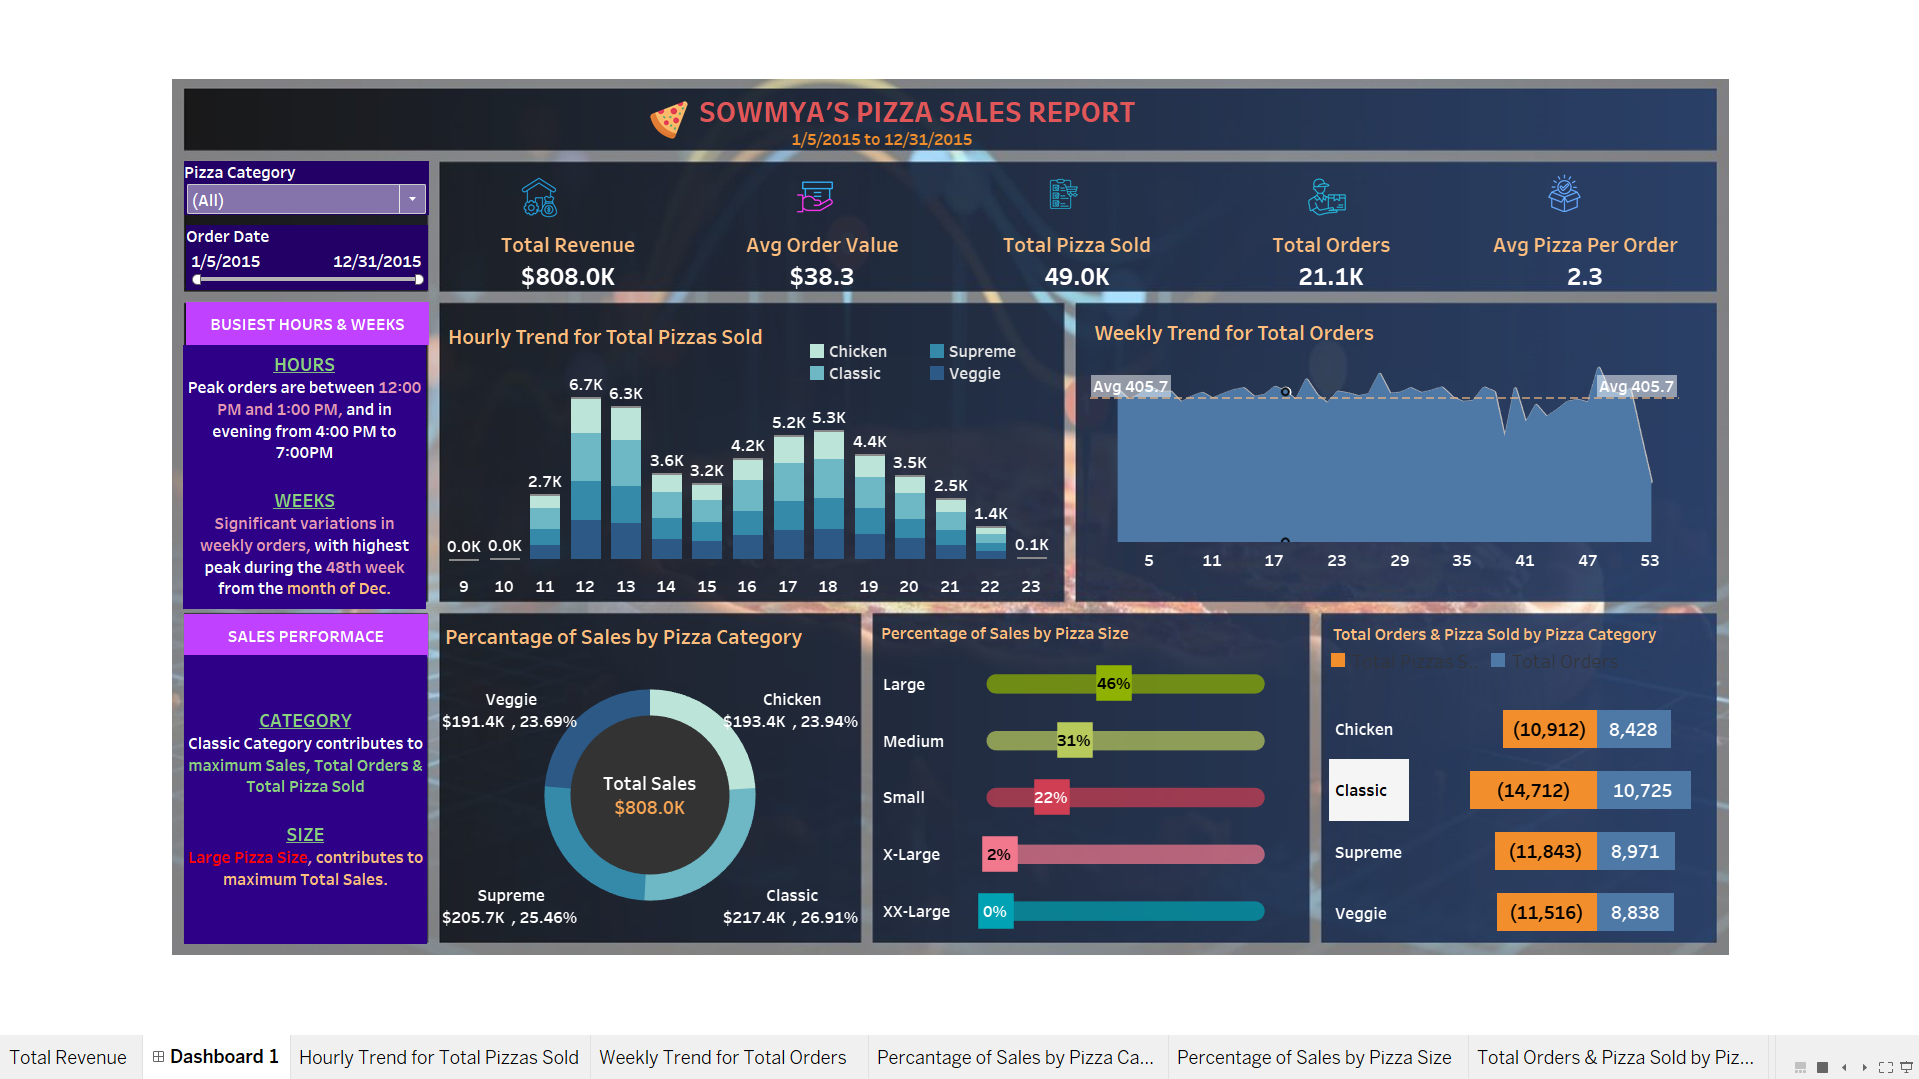

The page's visual inventory and layout, read from the dashboard file:
{"tool":"tableau","page":{"name":"Dashboard 1","canvas":[1600,900],"ordinal":0},"visuals":[{"type":"image","param":"C:/Users/Sowmya/Desktop/sql tableuau/Tableau & SQL Project/Pizza Tableau 1.jpg","box":[8,8,1584,884]},{"type":"text","box":[535,24,445,39]},{"type":"image","param":"C:/Users/Sowmya/Desktop/sql tableuau/Tableau & SQL Project/Pizza Sales Images/pi","box":[489,33,47,39]},{"type":"worksheet","title":"Date","mark":"Automatic","box":[420,63,603,18]},{"type":"filter","title":"Hourly Trend for Total Pizzas Sold","param":"[federated.1b7bx9z1to50l117srk150ibjvec].[none:pizza_category:nk]","box":[24,94,245,54]},{"type":"image","param":"C:/Users/Sowmya/Desktop/sql tableuau/Tableau & SQL Project/Pizza Sales Images/or","box":[1385,107,53,38]},{"type":"image","param":"C:/Users/Sowmya/Desktop/sql tableuau/Tableau & SQL Project/Pizza Sales Images/as","box":[358,109,55,42]},{"type":"image","param":"C:/Users/Sowmya/Desktop/sql tableuau/Tableau & SQL Project/Pizza Sales Images/sh","box":[634,109,51,41]},{"type":"image","param":"C:/Users/Sowmya/Desktop/sql tableuau/Tableau & SQL Project/Pizza Sales Images/de","box":[1147,110,44,39]},{"type":"image","param":"C:/Users/Sowmya/Desktop/sql tableuau/Tableau & SQL Project/Pizza Sales Images/or","box":[888,111,31,44]},{"type":"worksheet","title":"Total Revenue","mark":"Automatic","box":[281,151,1272,73]},{"type":"filter","title":"Hourly Trend for Total Pizzas Sold","param":"[federated.1b7bx9z1to50l117srk150ibjvec].[none:order_date:qk]","box":[26,158,242,65]},{"type":"text","box":[26,235,243,43]},{"type":"worksheet","title":"Weekly Trend for Total Orders","mark":"Area","rows":["Calculation_870320662577397761","Calculation_870320662577397761"],"cols":["order_date"],"box":[930,247,589,269]},{"type":"legend","title":"Hourly Trend for Total Pizzas Sold","param":"[federated.1b7bx9z1to50l117srk150ibjvec].[none:pizza_category:nk]","box":[646,250,251,68]},{"type":"worksheet","title":"Hourly Trend for Total Pizzas Sold","mark":"Bar","rows":["Calculation_870320662578171907","Calculation_870320662578171907"],"cols":["order_time"],"box":[284,251,608,280]},{"type":"text","box":[23,278,243,264]},{"type":"text","box":[24,547,244,43]},{"type":"worksheet","title":"Percantage of Sales by Pizza Category","mark":"Pie","rows":["Calculation_2046323115972481027","Calculation_2046323115972521989"],"box":[281,551,418,311]},{"type":"worksheet","title":"Percentage of Sales by Pizza Size","mark":"Line","rows":["pizza_size"],"box":[717,551,431,321]},{"type":"worksheet","title":"Total Orders & Pizza Sold by Pizza Category","mark":"Automatic","rows":["pizza_category"],"box":[1169,552,380,324]},{"type":"text","box":[24,588,243,289]}]}

Visuals, with their boxes on the page's 1600x900 design canvas (x1, y1, x2, y2). These are canvas units, not pixel positions in the 1919x1079 screenshot, which may show the page scaled, cropped or inside an application window:
image: crop(8, 8, 1592, 892)
text: crop(535, 24, 980, 63)
image: crop(489, 33, 536, 72)
"Date" worksheet: crop(420, 63, 1023, 81)
"Hourly Trend for Total Pizzas Sold" filter: crop(24, 94, 269, 148)
image: crop(1385, 107, 1438, 145)
image: crop(358, 109, 413, 151)
image: crop(634, 109, 685, 150)
image: crop(1147, 110, 1191, 149)
image: crop(888, 111, 919, 155)
"Total Revenue" worksheet: crop(281, 151, 1553, 224)
"Hourly Trend for Total Pizzas Sold" filter: crop(26, 158, 268, 223)
text: crop(26, 235, 269, 278)
"Weekly Trend for Total Orders" worksheet (Area marks): crop(930, 247, 1519, 516)
"Hourly Trend for Total Pizzas Sold" legend: crop(646, 250, 897, 318)
"Hourly Trend for Total Pizzas Sold" worksheet (Bar marks): crop(284, 251, 892, 531)
text: crop(23, 278, 266, 542)
text: crop(24, 547, 268, 590)
"Percantage of Sales by Pizza Category" worksheet (Pie marks): crop(281, 551, 699, 862)
"Percentage of Sales by Pizza Size" worksheet (Line marks): crop(717, 551, 1148, 872)
"Total Orders & Pizza Sold by Pizza Category" worksheet: crop(1169, 552, 1549, 876)
text: crop(24, 588, 267, 877)
